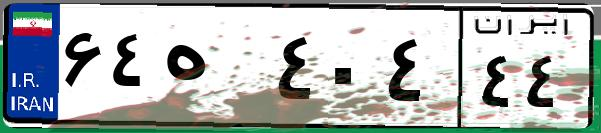0: (330, 28, 385, 110)
4: (270, 28, 330, 110), (385, 28, 445, 110), (475, 38, 525, 113), (525, 38, 570, 115), (110, 28, 158, 98)
6: (57, 26, 110, 100)
ه: (158, 20, 270, 120)
